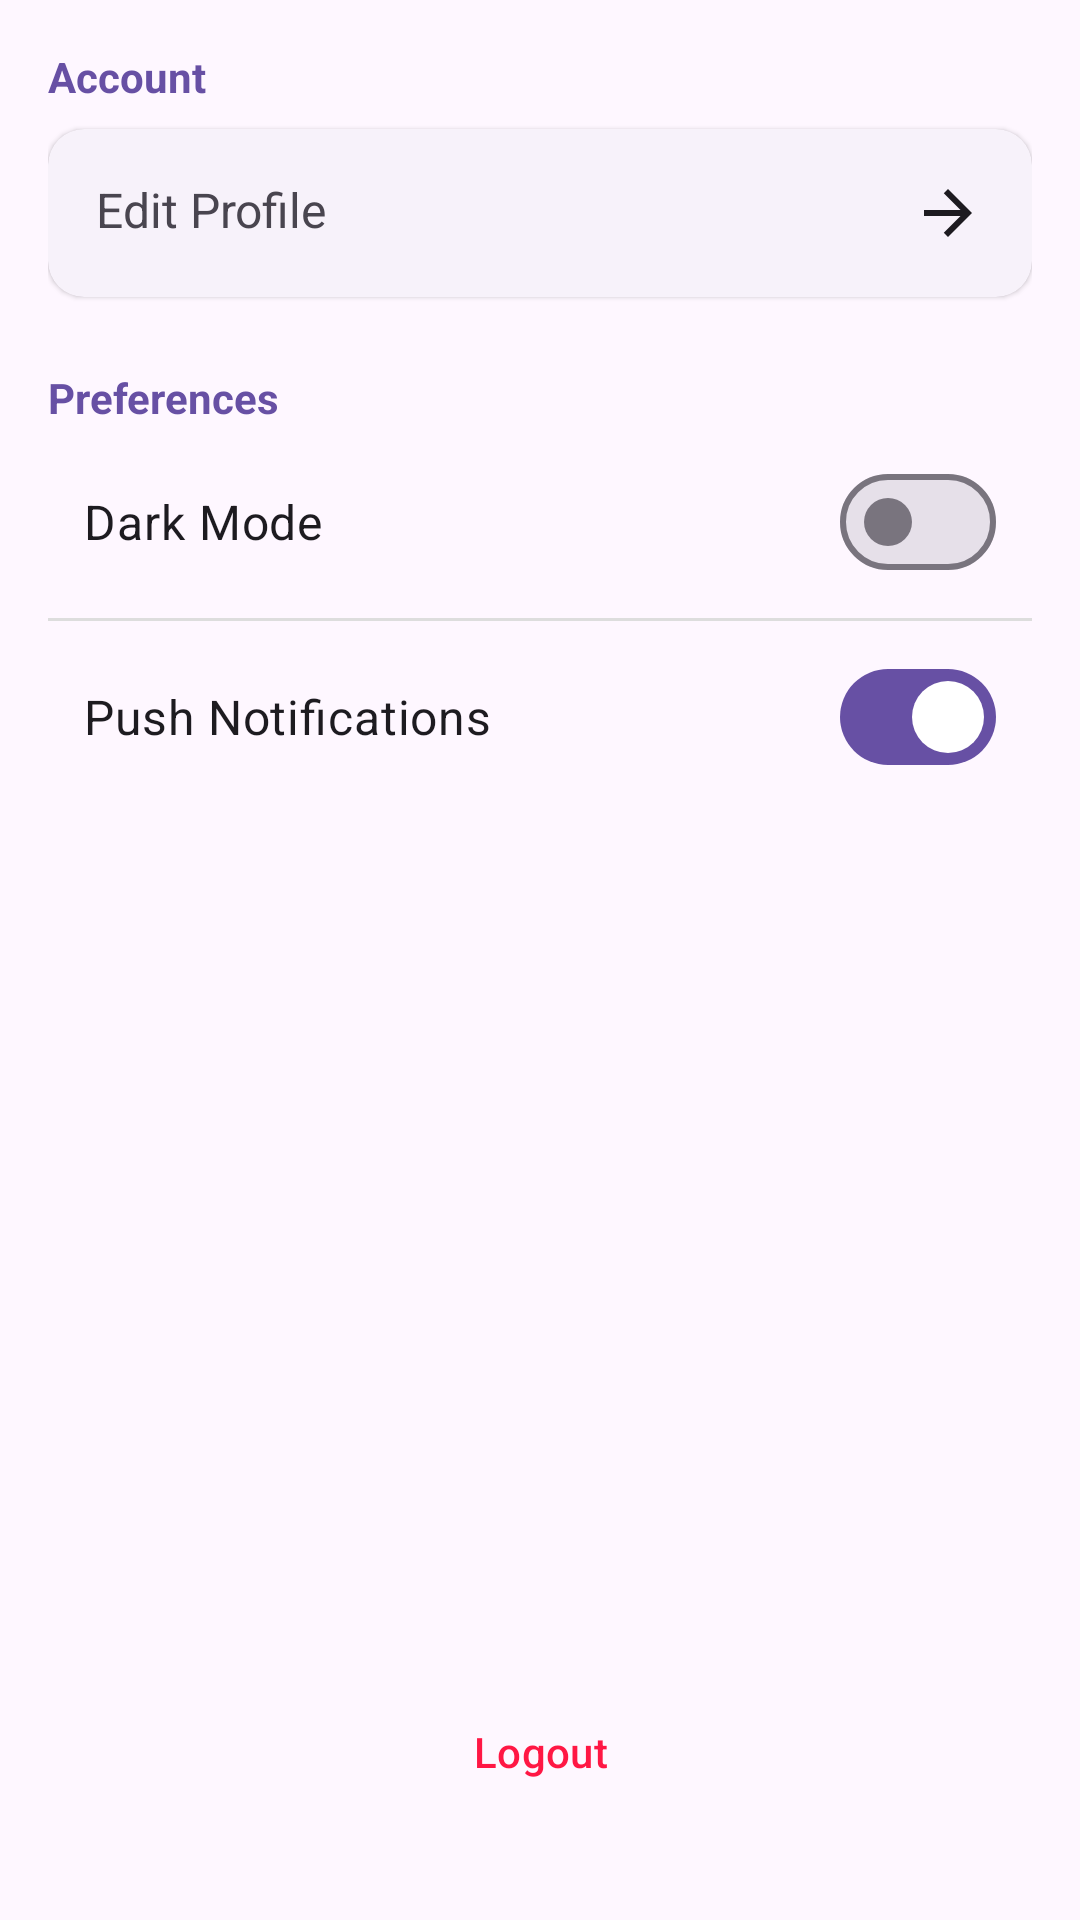

Point at icon controls on the screen. Image size 1080×1920, points as [x,y].
arrow right: [948,213]
